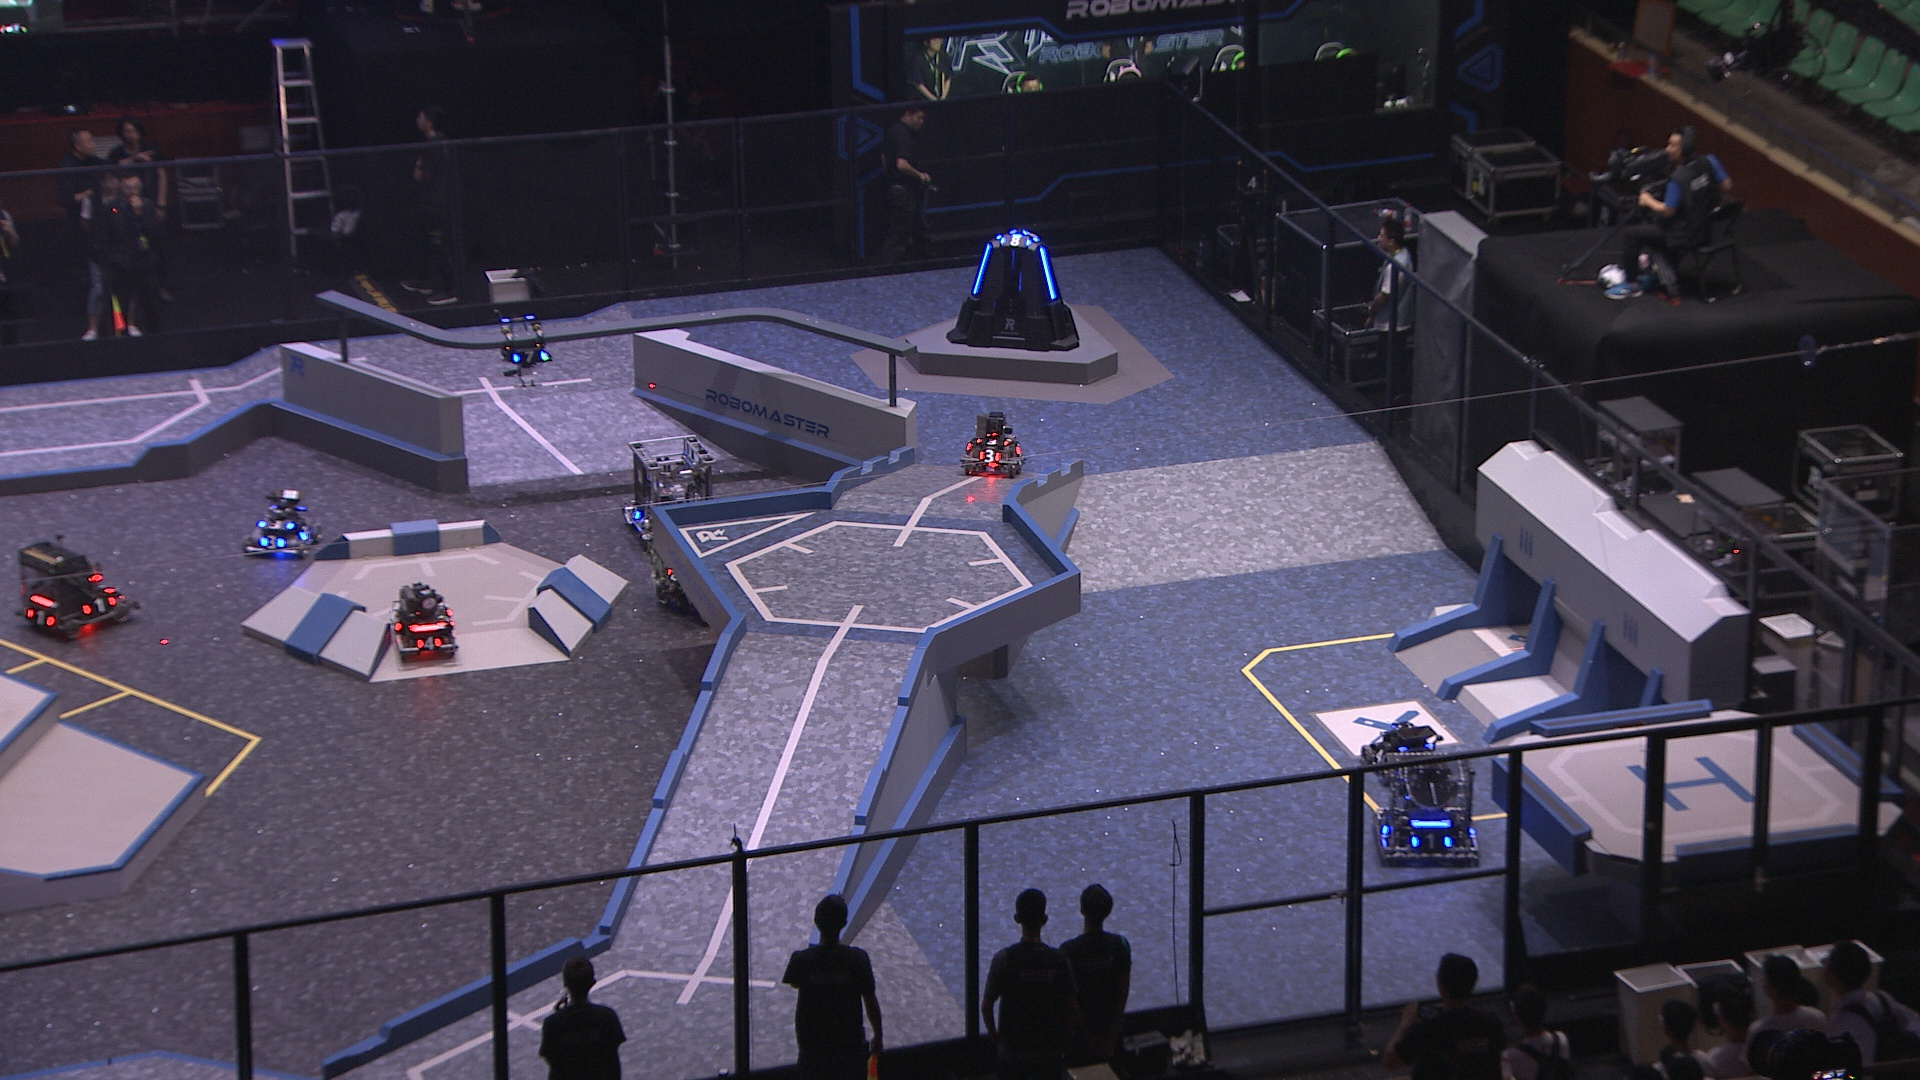armor: (1038, 247, 1059, 305), (972, 243, 992, 294), (83, 593, 120, 617), (1411, 832, 1455, 851), (513, 349, 549, 367), (26, 605, 53, 626), (414, 632, 440, 651), (257, 516, 295, 529), (258, 533, 284, 551), (1000, 233, 1030, 248), (1378, 814, 1391, 841), (629, 504, 644, 529), (981, 448, 1002, 465), (1370, 746, 1386, 765), (981, 434, 1005, 446), (297, 524, 311, 542), (94, 580, 112, 595), (665, 566, 678, 583), (1013, 442, 1022, 458)
base: (945, 223, 1081, 352)
car: (11, 541, 140, 640), (1375, 754, 1481, 870), (622, 434, 727, 549), (642, 543, 727, 628), (386, 582, 460, 666), (1357, 717, 1437, 790), (240, 491, 320, 560), (959, 409, 1030, 484)
watcher: (498, 314, 556, 375)
